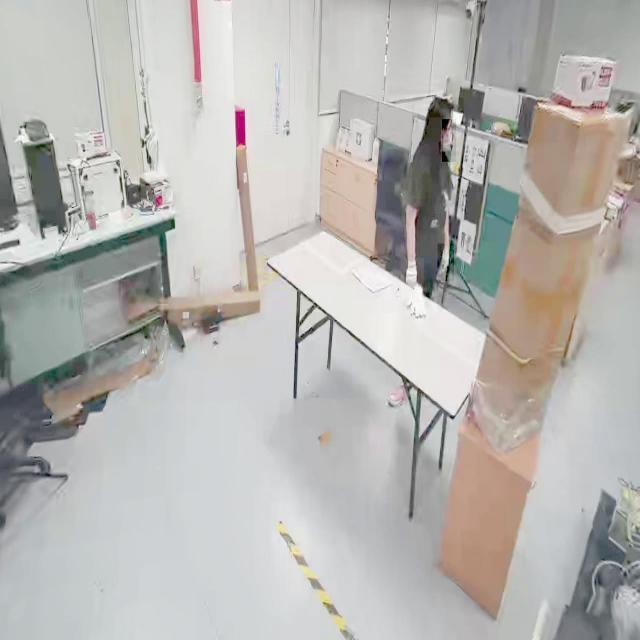gloves: (402, 258, 424, 300), (438, 244, 454, 282)
